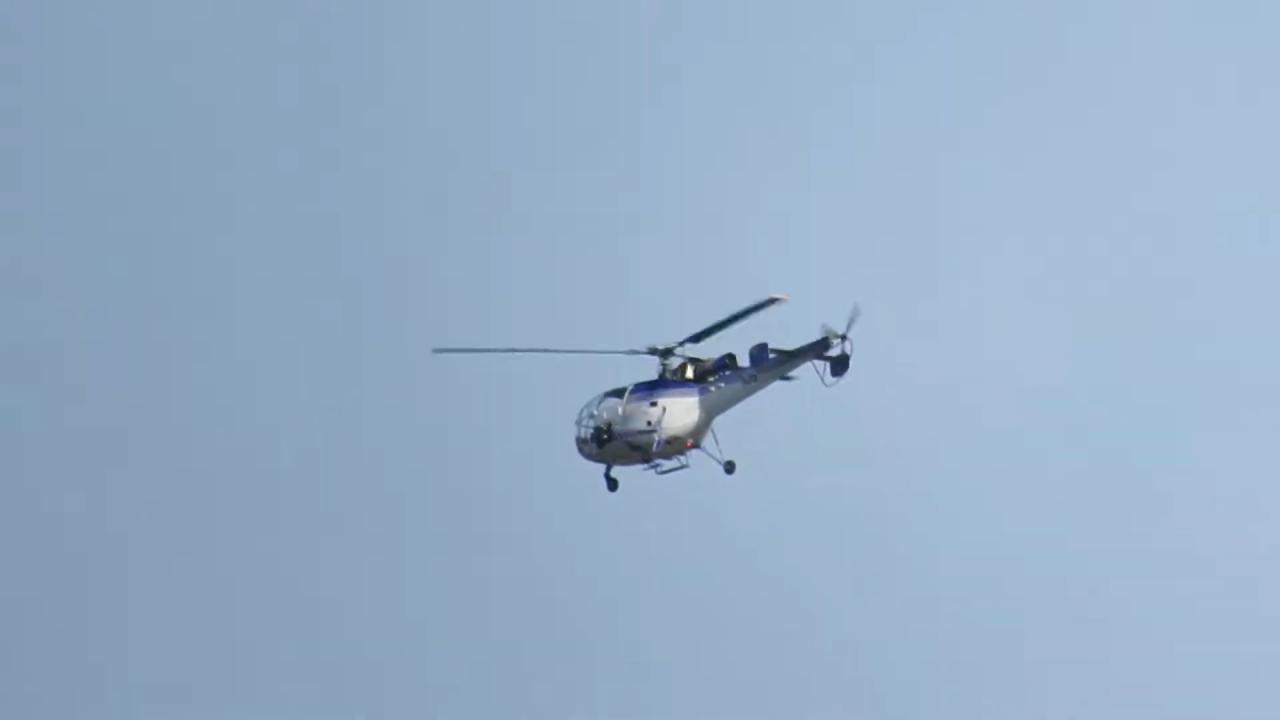Helicopter: (408, 256, 898, 533)
